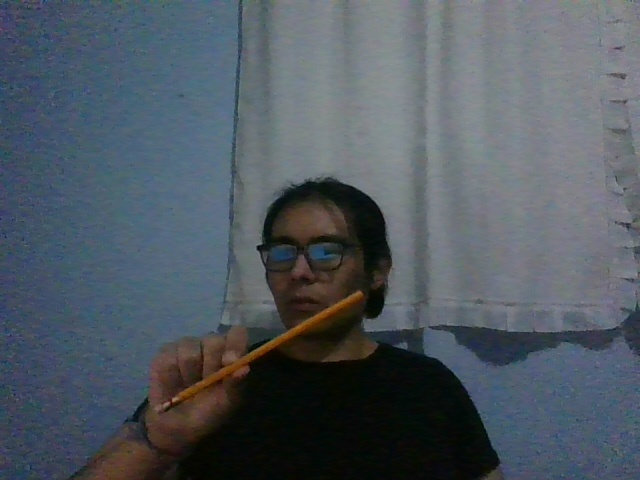lapiz: (153, 290, 365, 414)
